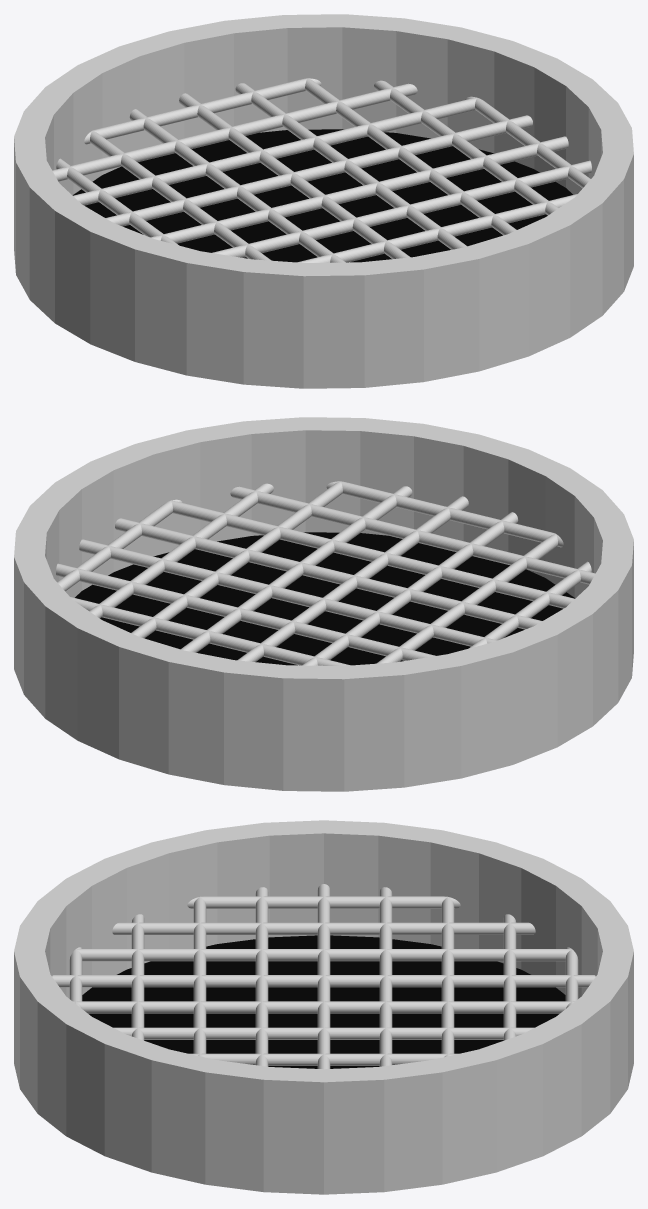
The model's file is Tuliansa 03.fbx.
3 views of the same model, one above another, from view 1: azimuth 30°, elevation 25°; view 2: azimuth 150°, elevation 25°; view 3: azimuth 270°, elevation 25° (orthographic).
Visible parts, largest first — view 1: Base, Cylinder; view 2: Base, Cylinder; view 3: Base, Cylinder.
Part boxes in pixels (box(x1,y1,x2,y2)): Base: box(14, 14, 633, 388); Cylinder: box(73, 129, 572, 262); Base: box(14, 417, 633, 791); Cylinder: box(75, 532, 574, 665); Base: box(14, 820, 633, 1194); Cylinder: box(82, 935, 565, 1068).
Size of the model in its own units: 1 by 0.201 by 1.
Materials: 1 (1 with a texture image).
